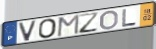L: (122, 8, 138, 27)
M: (56, 14, 81, 38)
O: (99, 9, 119, 30), (38, 18, 58, 39)
V: (18, 19, 38, 42)
Z: (78, 11, 100, 35)
